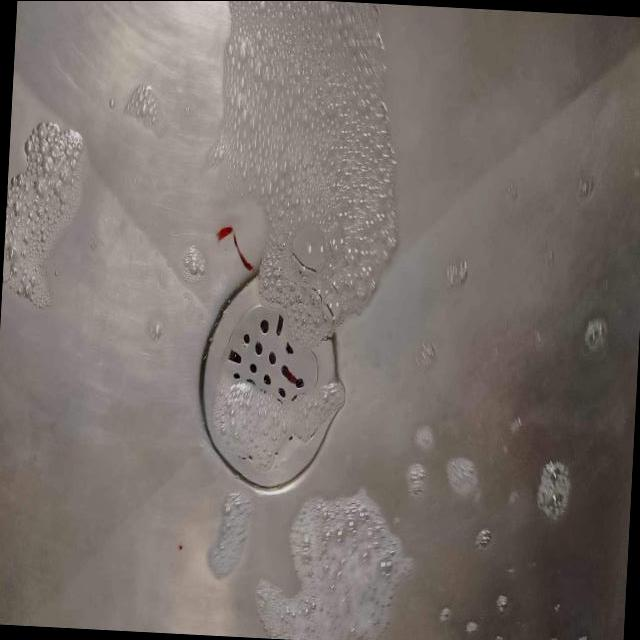General: (1, 3, 637, 639), (196, 272, 349, 497)
Sharps: (196, 2, 399, 495), (213, 223, 256, 274)
